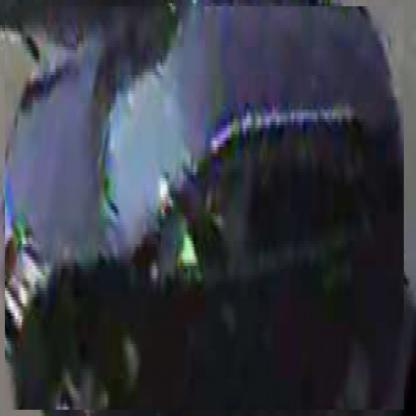car: (5, 7, 405, 414)
